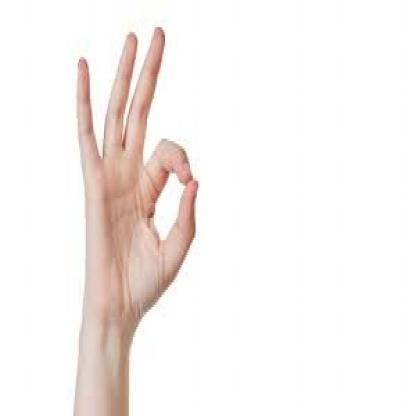ok: (70, 24, 200, 326)
